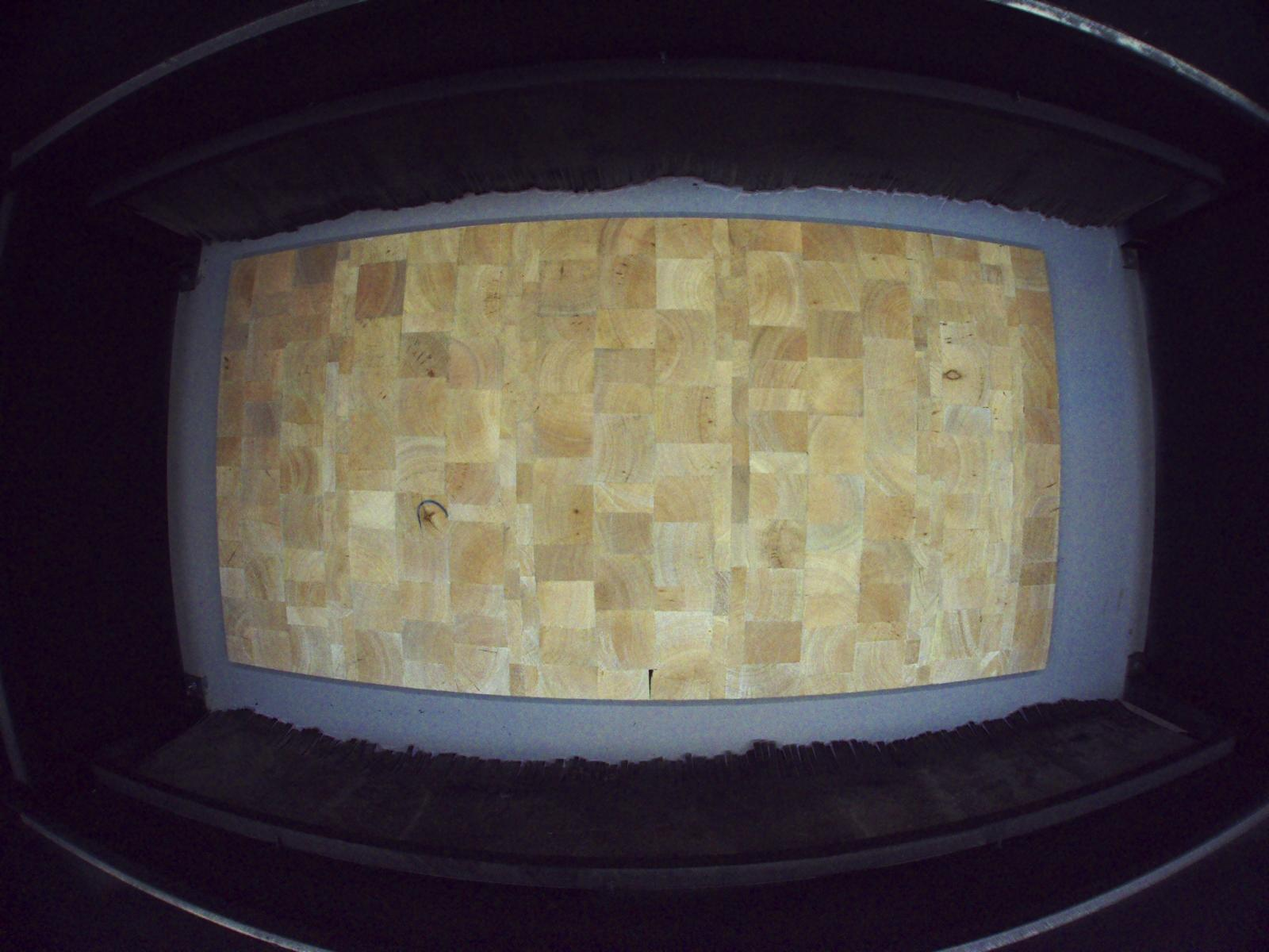sheck_ecuatoriano: (420, 493, 444, 535)
